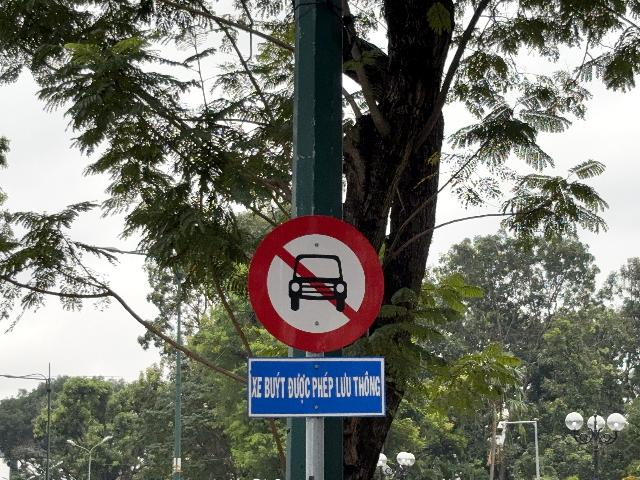cam-o-to: (248, 215, 384, 353)
